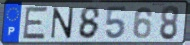5: (104, 6, 128, 41)
6: (132, 6, 153, 40)
8: (78, 6, 102, 40), (159, 4, 181, 41)
E: (21, 6, 49, 40)
N: (49, 7, 76, 40)
